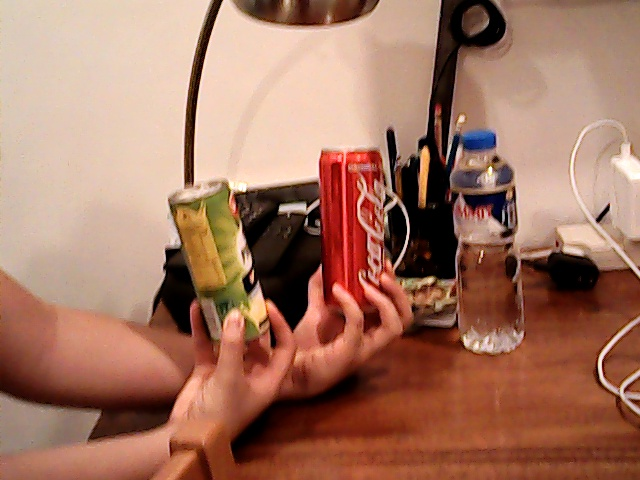Cola: (310, 135, 404, 315)
Pine Juice: (160, 177, 279, 343)
Summit Water: (439, 120, 540, 360)
